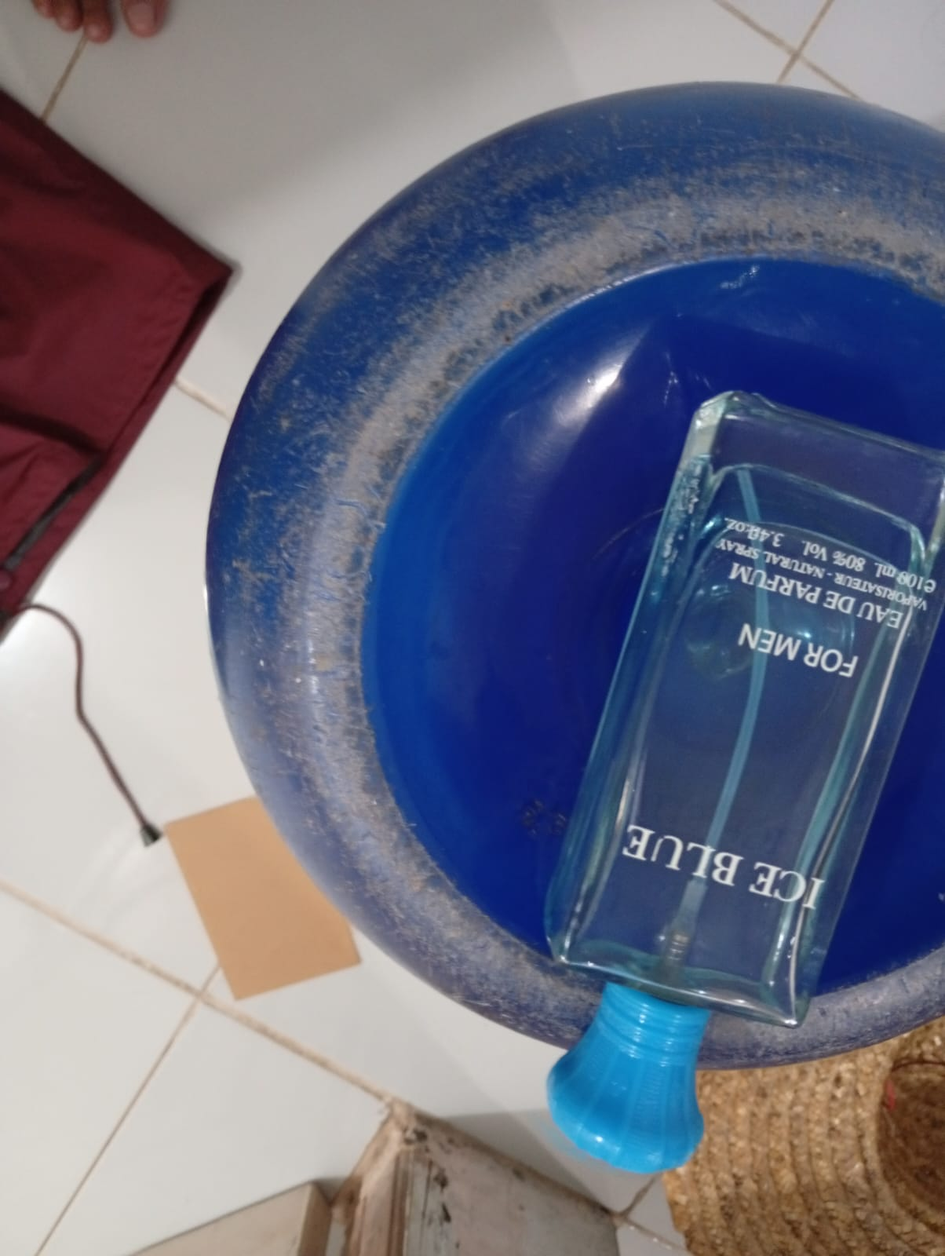Parfum: (486, 351, 945, 1183)
